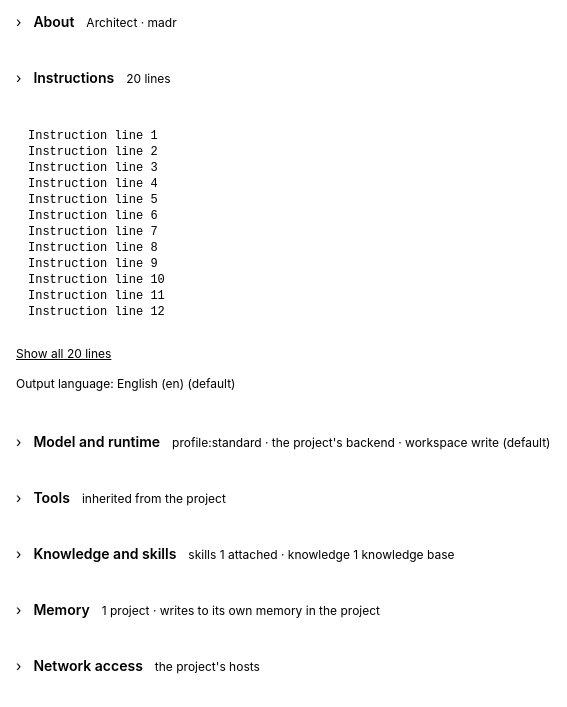
Test: the Definition tab › folds long instructions behind Show all
This screenshot has width=567, height=707.
(page scrolled)
Click the button "Show all 20 lines".
click(64, 354)  # box [16, 346, 111, 362]
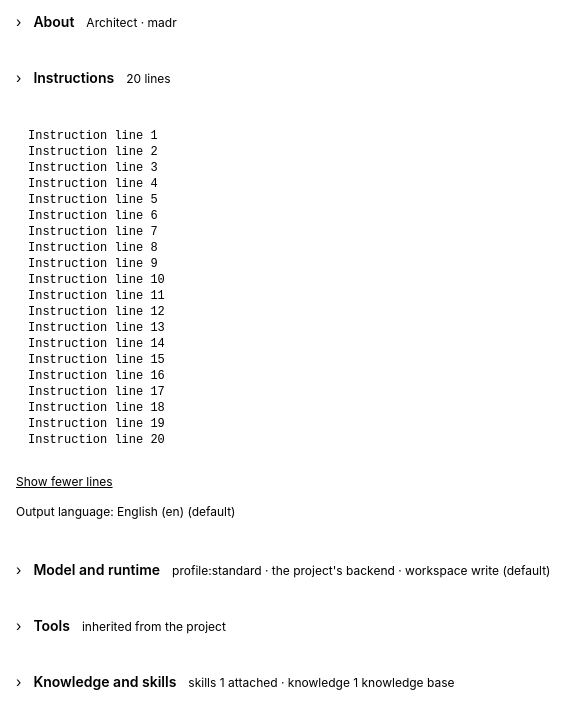
Result: the text named "Instructions" shows "Instruction line 20" at [28, 129, 165, 447]
